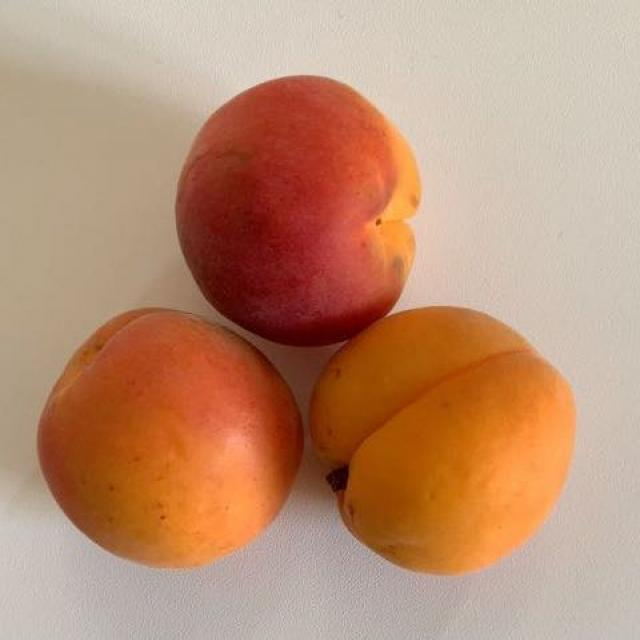apricot: (79, 201, 348, 422)
